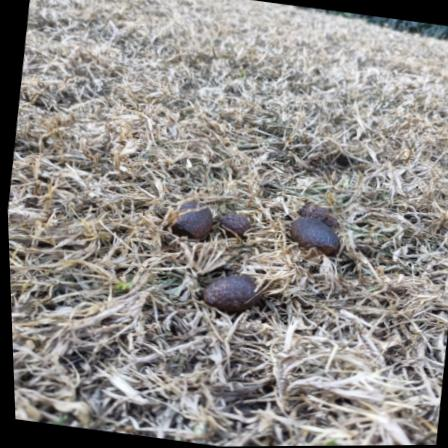dog-poop: (281, 193, 363, 266), (167, 190, 256, 253), (194, 267, 270, 317)
